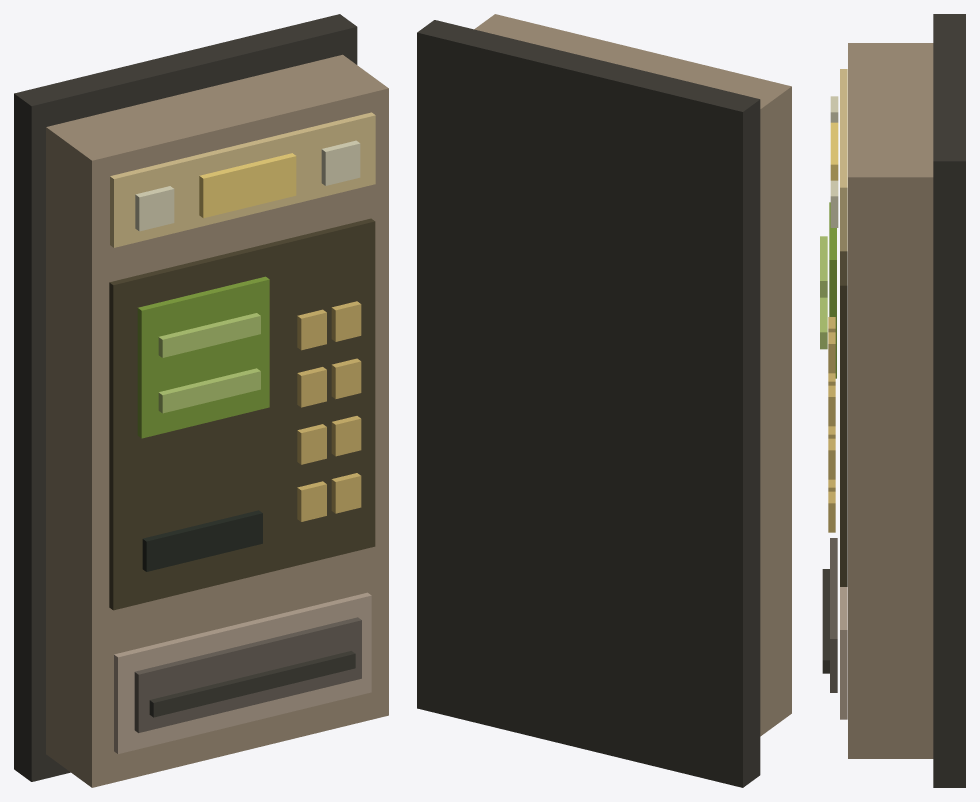
The model's file is CMU3DWallATM.glb.
The picture shows the model from 3 angles, left to right: view 1: azimuth 30°, elevation 25°; view 2: azimuth 150°, elevation 25°; view 3: azimuth 270°, elevation 25°; orthographic projection. The views are drawn at different scales.
Parts seen in each view (by area): view 1: ATM housing, console dark inset, ATM wall backplate, green ATM screen, upper amber trim, lower drawer surround, lower drawer inset, ATM keypad (×8), ATM screen text (×2), header central light, cash dispenser slot, drawer horizontal crease (+1 smaller); view 2: ATM wall backplate, ATM housing; view 3: ATM housing, ATM wall backplate, console dark inset, upper amber trim, ATM keypad (×4), lower drawer inset, lower drawer surround, ATM screen text (×2), green ATM screen, drawer horizontal crease, header central light, header pale insert.
Boxes of the visible parts, bbox=[...] form: ATM housing: bbox=[46, 54, 388, 787]; console dark inset: bbox=[109, 218, 375, 610]; ATM wall backplate: bbox=[14, 14, 357, 781]; green ATM screen: bbox=[137, 276, 269, 438]; upper amber trim: bbox=[110, 112, 375, 247]; lower drawer surround: bbox=[114, 592, 371, 753]; lower drawer inset: bbox=[134, 617, 361, 732]; ATM keypad (×8): bbox=[297, 301, 361, 521]; ATM screen text (×2): bbox=[158, 313, 260, 413]; header central light: bbox=[199, 153, 296, 218]; cash dispenser slot: bbox=[142, 510, 262, 571]; drawer horizontal crease: bbox=[149, 651, 355, 717]; ATM wall backplate: bbox=[417, 20, 760, 787]; ATM housing: bbox=[474, 14, 791, 736]; ATM housing: bbox=[848, 43, 933, 758]; ATM wall backplate: bbox=[933, 14, 965, 787]; console dark inset: bbox=[840, 251, 847, 586]; upper amber trim: bbox=[840, 69, 847, 251]; ATM keypad (×4): bbox=[828, 332, 835, 532]; lower drawer inset: bbox=[830, 538, 837, 692]; lower drawer surround: bbox=[840, 587, 847, 719]; ATM screen text (×2): bbox=[820, 236, 827, 349]; green ATM screen: bbox=[829, 202, 836, 378]; drawer horizontal crease: bbox=[822, 569, 829, 673]; header central light: bbox=[830, 122, 838, 180]; header pale insert: bbox=[830, 180, 838, 227].
Bounding box in the file's own units: 0.56 × 1.11 × 0.234.
